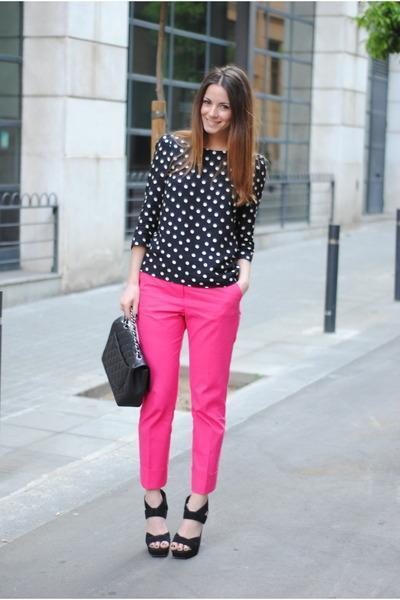bag: (102, 324, 150, 406)
pants: (136, 276, 244, 497)
shirt: (132, 132, 259, 287)
shoe: (144, 492, 207, 559)
